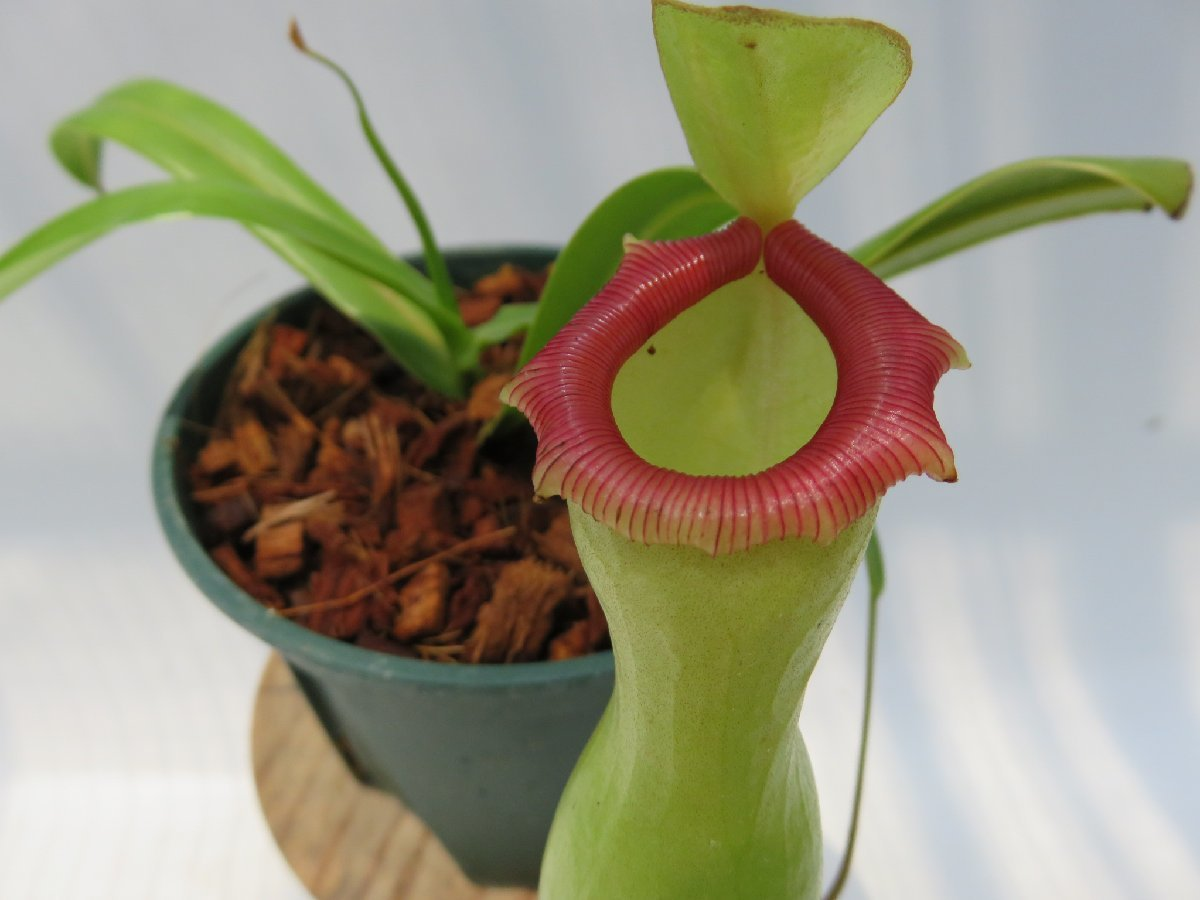ventricosa: (487, 13, 986, 900)
